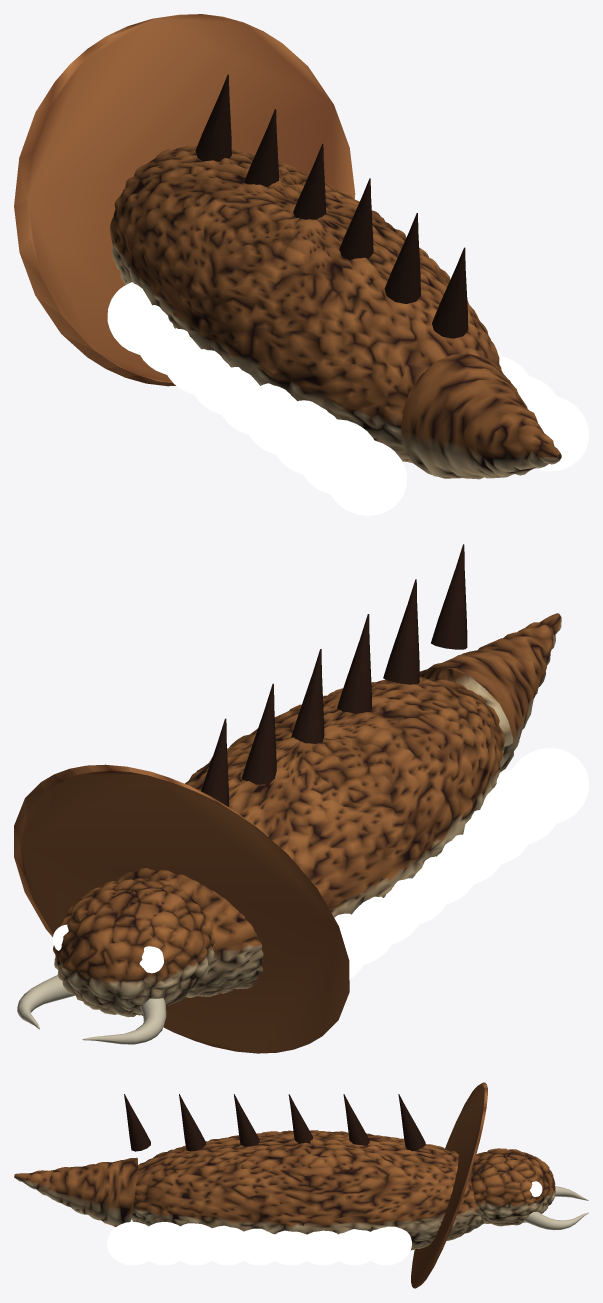
The model's file is ruuvak_huge.glb.
3 views of the same model, one above another, from view 1: azimuth 30°, elevation 25°; view 2: azimuth 150°, elevation 25°; view 3: azimuth 270°, elevation 25° (orthographic). The views are drawn at different scales.
Parts seen in each view (by area): view 1: ruuvak_huge.001; view 2: ruuvak_huge.001; view 3: ruuvak_huge.001.
Boxes of the visible parts, x1,y1,x2,y2 form: ruuvak_huge.001: [14, 14, 588, 515]; ruuvak_huge.001: [14, 544, 588, 1053]; ruuvak_huge.001: [14, 1082, 588, 1288].
Bounding box in the file's own units: 3.87 × 3.54 × 10.
